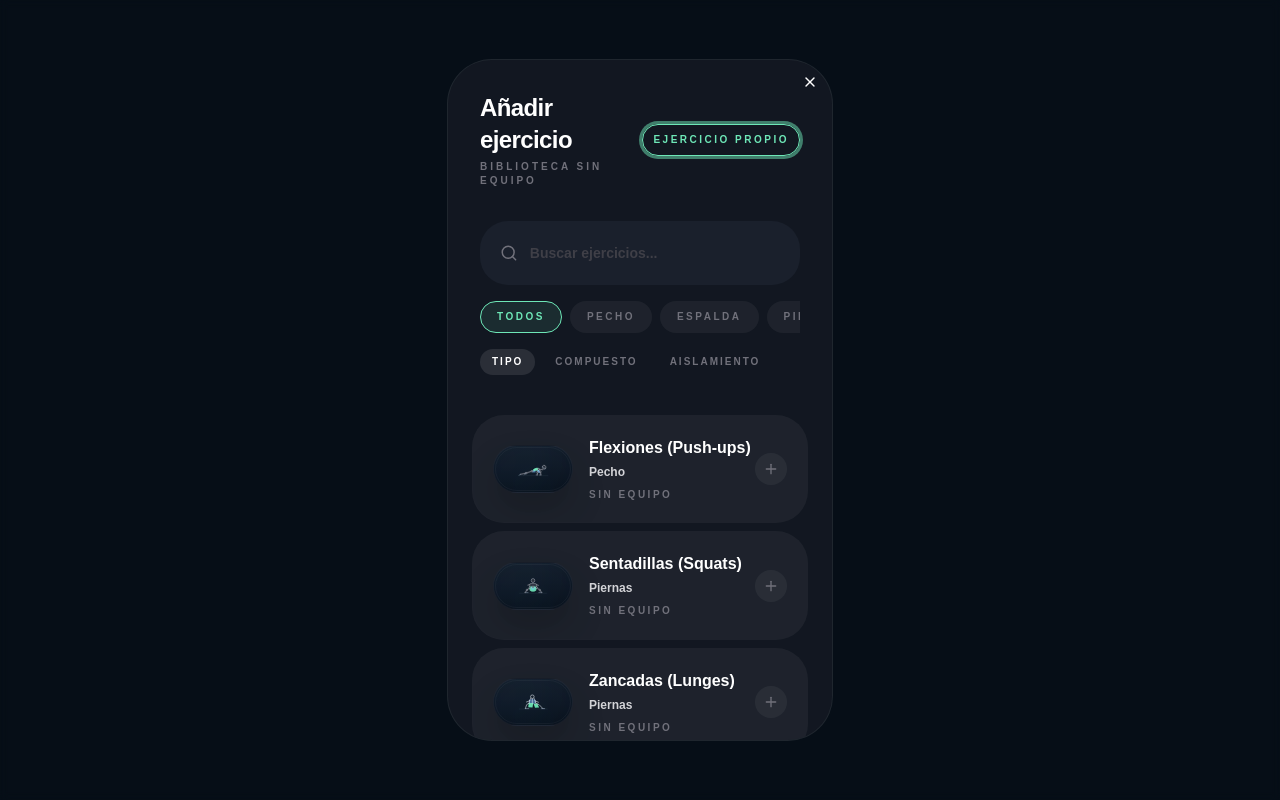
Test: ExercisePickerDialog visuals › renders technical visuals in the list and expanded preview
The width and height of the screenshot is (1280, 800).
Expected: the picture named "visual de flexiones (push-ups)" is shown, top-left (493, 445), bottom-right (573, 493)
Click the button "Flexiones (Push-ups) Pecho Sin equipo": click(533, 469) top-left (473, 416), bottom-right (807, 522)
(page scrolled)
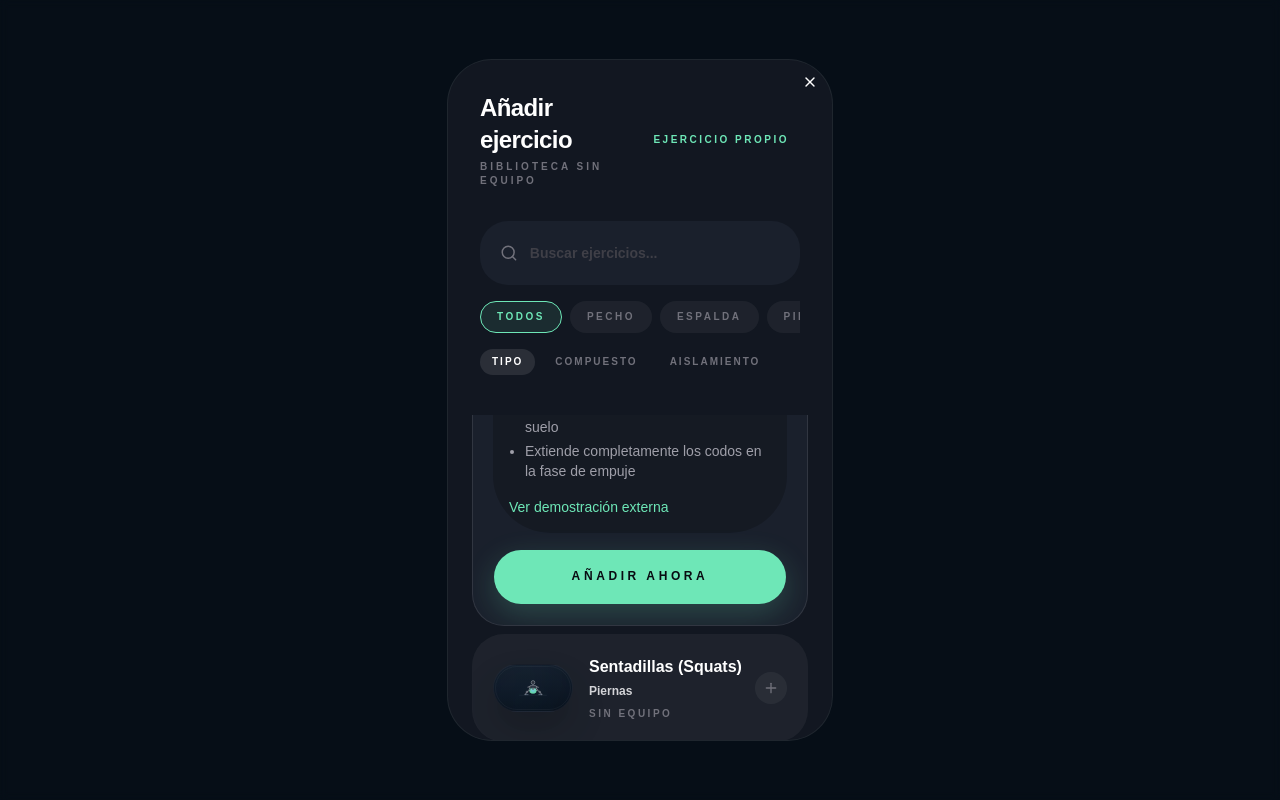
Result: the button "AÑADIR AHORA" is shown at top-left (493, 549), bottom-right (787, 605)
